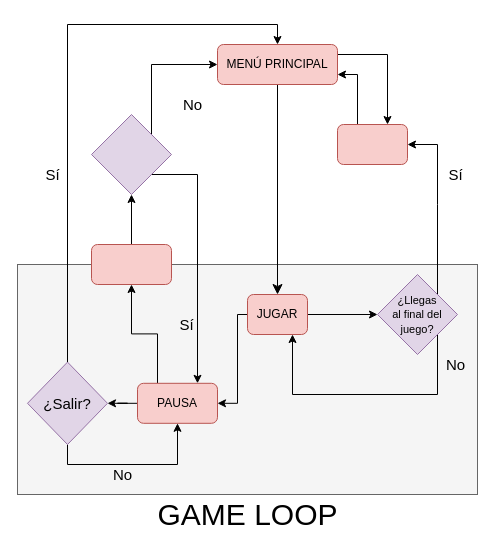
Some shapes in this 495 by 550 pixel diagram are drawn without their labels. The shapes that lost their labels are listed below. From the top down, each one's centre as x and y in pixels, then its label:
pixel 131 154: ¿Estás en "GAME LOOP"
pixel 372 144: CRÉDITOS
pixel 131 264: OPCIONES/ AJUSTES
